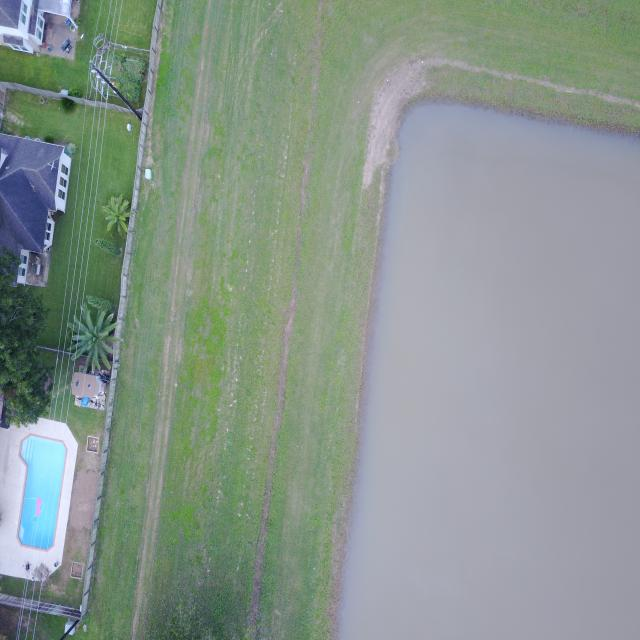fire: (339, 104, 640, 639)
